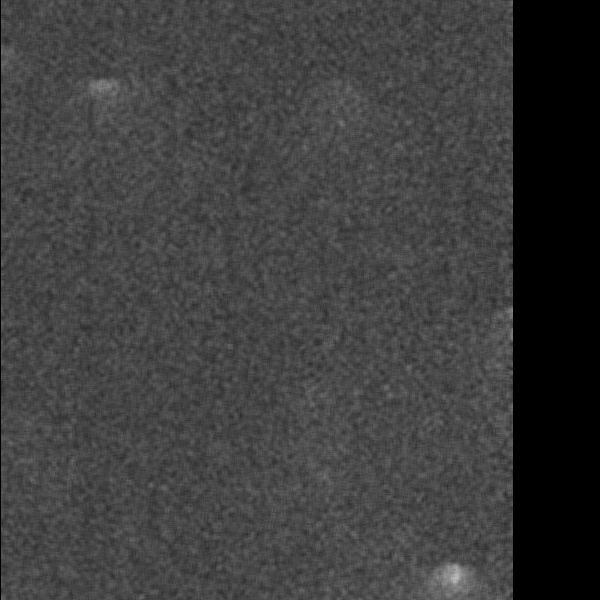spark: (432, 558, 475, 600), (70, 74, 125, 105)
